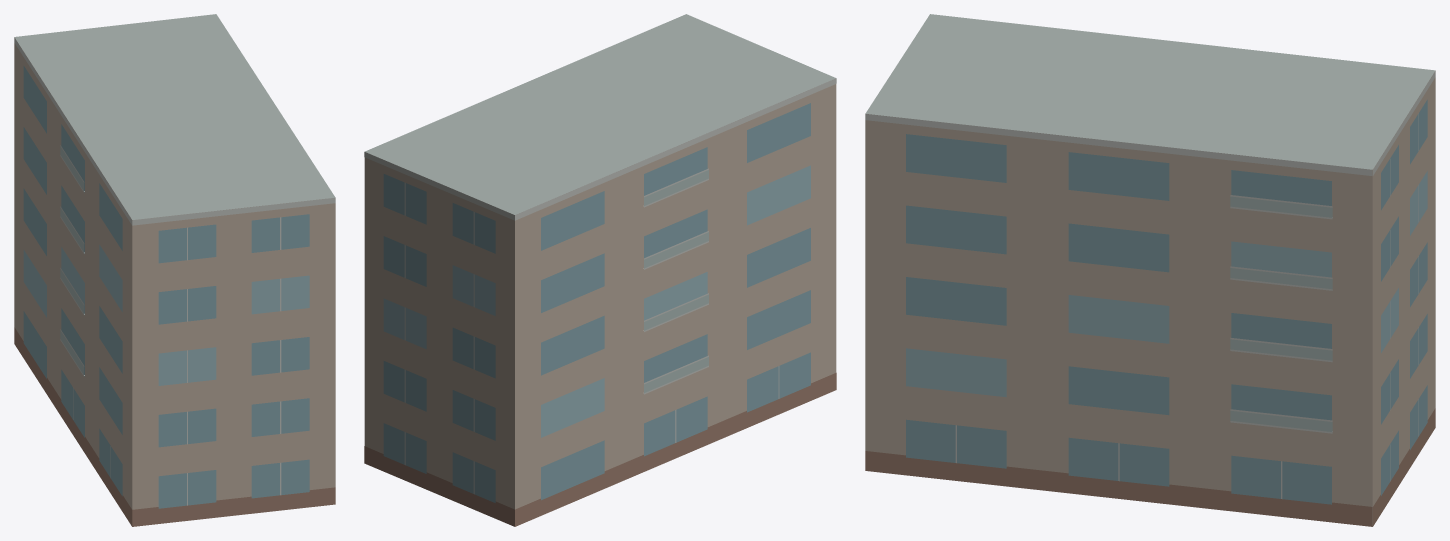
The model's file is survey-upis-32495129.glb.
The picture shows the model from 3 angles, left to right: view 1: azimuth 30°, elevation 25°; view 2: azimuth 150°, elevation 25°; view 3: azimuth 270°, elevation 25°; orthographic projection. The views are drawn at different scales.
Parts seen in each view (by area): view 1: survey-upis-32495129.tmp; view 2: survey-upis-32495129.tmp; view 3: survey-upis-32495129.tmp.
Boxes of the visible parts, box(x1,y1,x2,y2) form: survey-upis-32495129.tmp: box(14, 14, 335, 526); survey-upis-32495129.tmp: box(364, 14, 836, 526); survey-upis-32495129.tmp: box(865, 14, 1435, 526).
Bounding box in the file's own units: 12.78 × 13.65 × 19.77.
